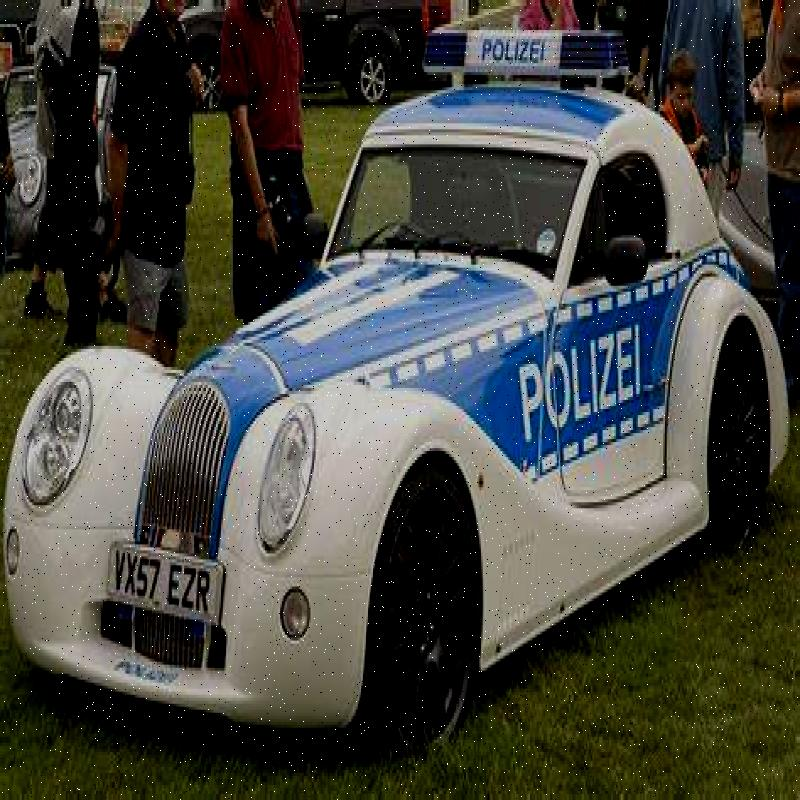AmbulanceSiren: (430, 25, 628, 102)
